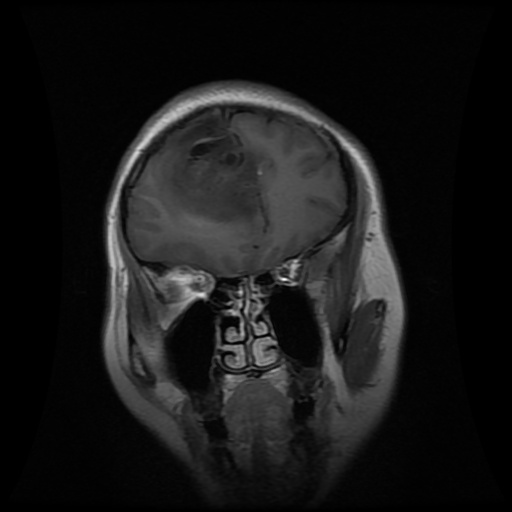glioma: (169, 111, 261, 219)
